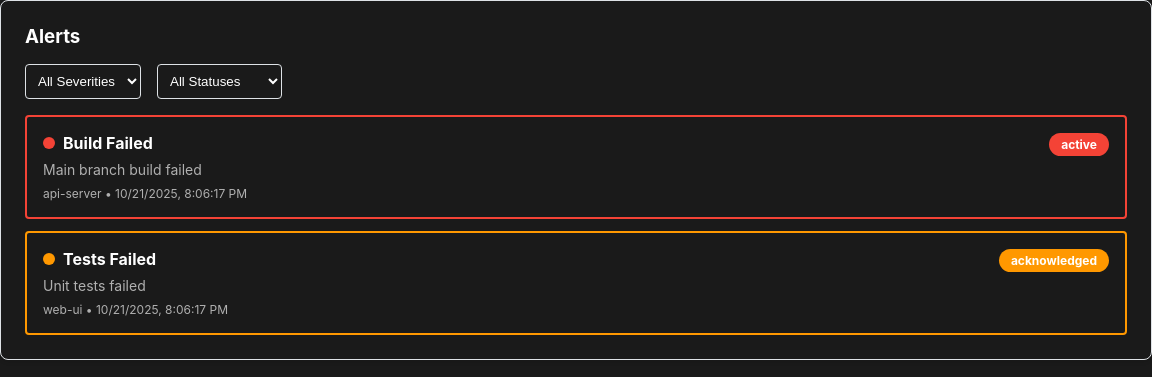
Test: AlertsPanel › should filter alerts by status
expect the text "Build Failed" is shown: met, box 63,133 -> 153,153
Step 1. Select "Acknowledged" in the 2nd dropdown showing "All Statuses" → (220, 82), box 157,64 -> 282,99
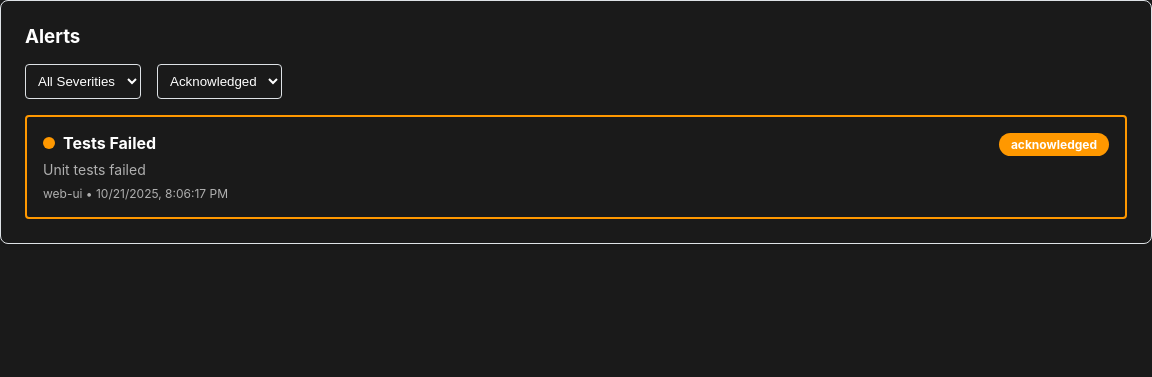
expect the text "Tests Failed" is shown: met, box 63,133 -> 156,153
expect the text "Build Failed" is gone: met
